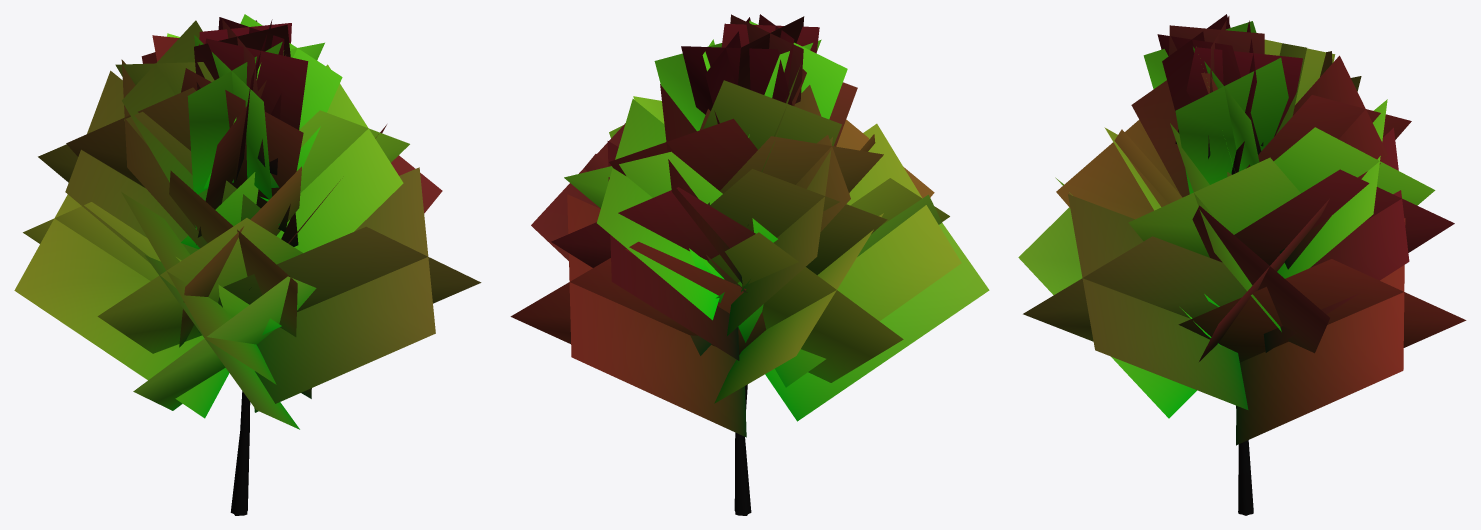
The model's file is Tree_2_5.fbx.
The picture shows the model from 3 angles, left to right: view 1: azimuth 30°, elevation 25°; view 2: azimuth 150°, elevation 25°; view 3: azimuth 270°, elevation 25°; orthographic projection. The views are drawn at different scales.
Parts seen in each view (by area): view 1: Tree_2_5; view 2: Tree_2_5; view 3: Tree_2_5.
Part boxes in pixels (x1=…): Tree_2_5: x1=14, y1=14, x2=481, y2=515; Tree_2_5: x1=510, y1=14, x2=989, y2=515; Tree_2_5: x1=1018, y1=14, x2=1466, y2=515.
Size of the model in its own units: 4130 by 5066 by 4295.
